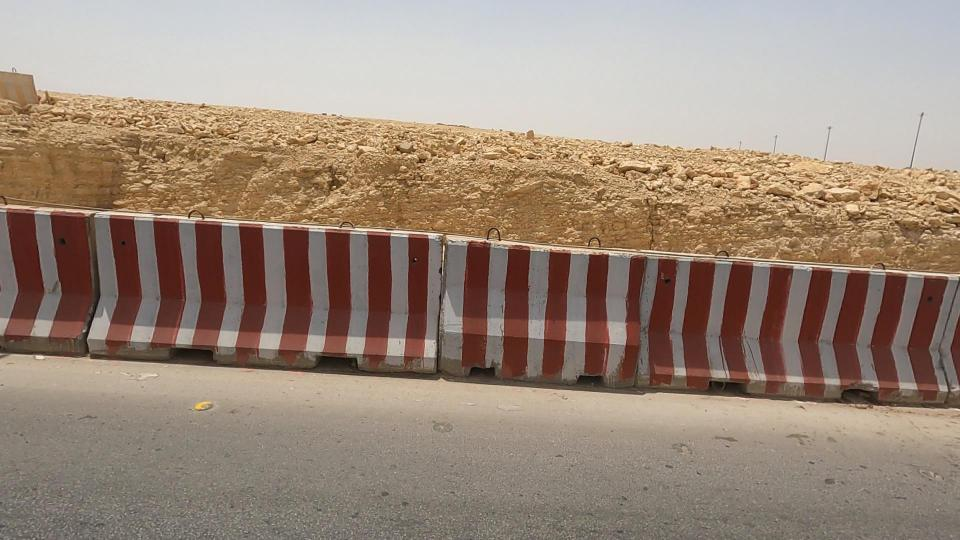CONSTRUCTION_ROAD: (0, 125, 616, 447), (335, 162, 929, 439)
